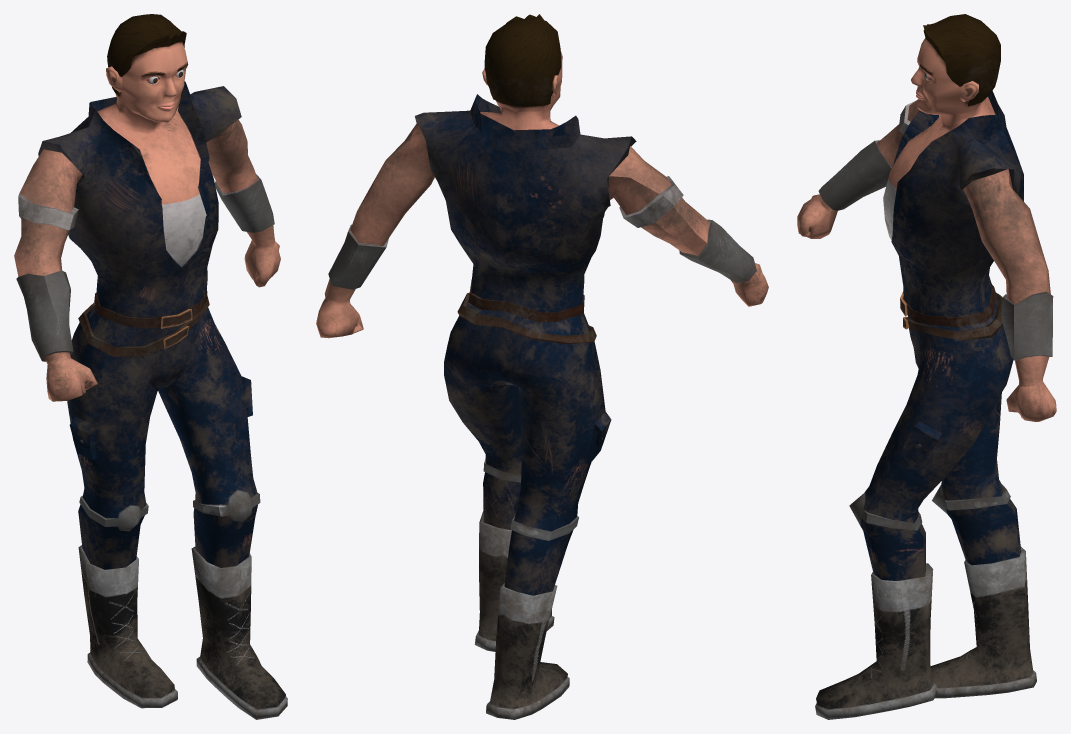
Rendered from Anim_andar_jugador.0031.obj.
The picture shows the model from 3 angles, left to right: view 1: azimuth 30°, elevation 25°; view 2: azimuth 150°, elevation 25°; view 3: azimuth 270°, elevation 25°; orthographic projection.
Parts seen in each view (by area): view 1: Anim_andar_jugador; view 2: Anim_andar_jugador; view 3: Anim_andar_jugador.
Boxes of the visible parts, <box> form: Anim_andar_jugador: <box>14,14,287,719</box>; Anim_andar_jugador: <box>316,14,768,719</box>; Anim_andar_jugador: <box>797,14,1056,719</box>.
Size of the model in its own units: 5.07 by 9.66 by 3.36.
